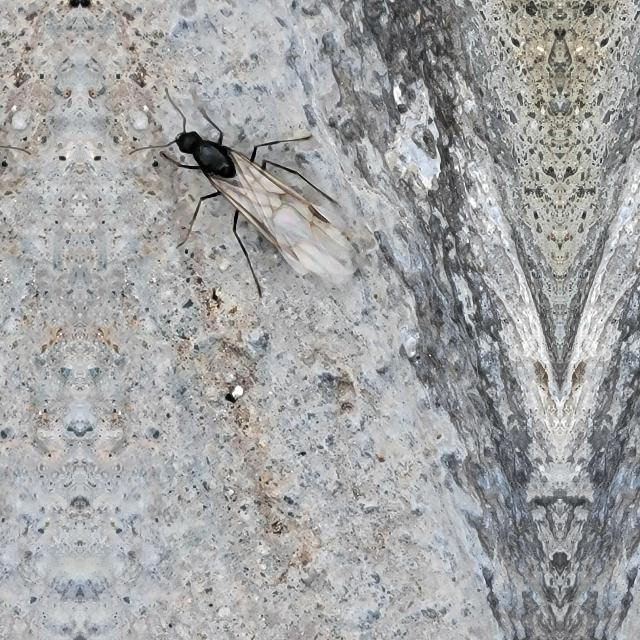Messor: (167, 105, 325, 257)
